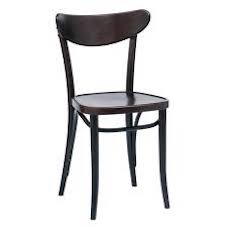chair: (30, 0, 202, 219)
